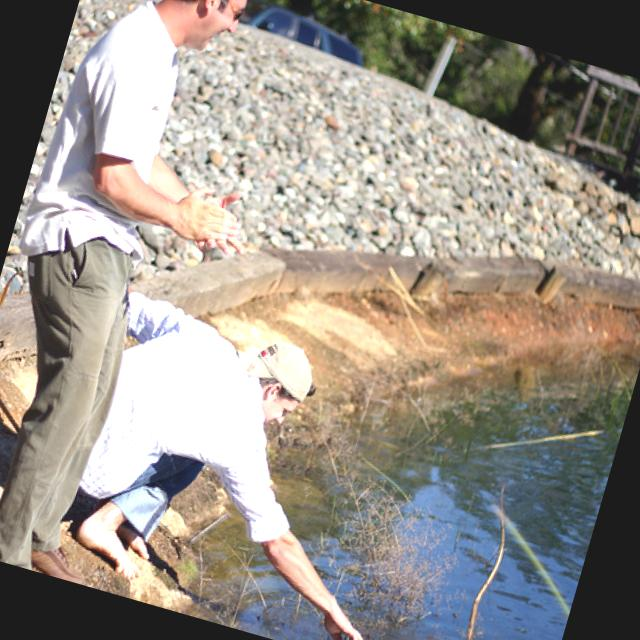Vehicle: (236, 0, 376, 68)
